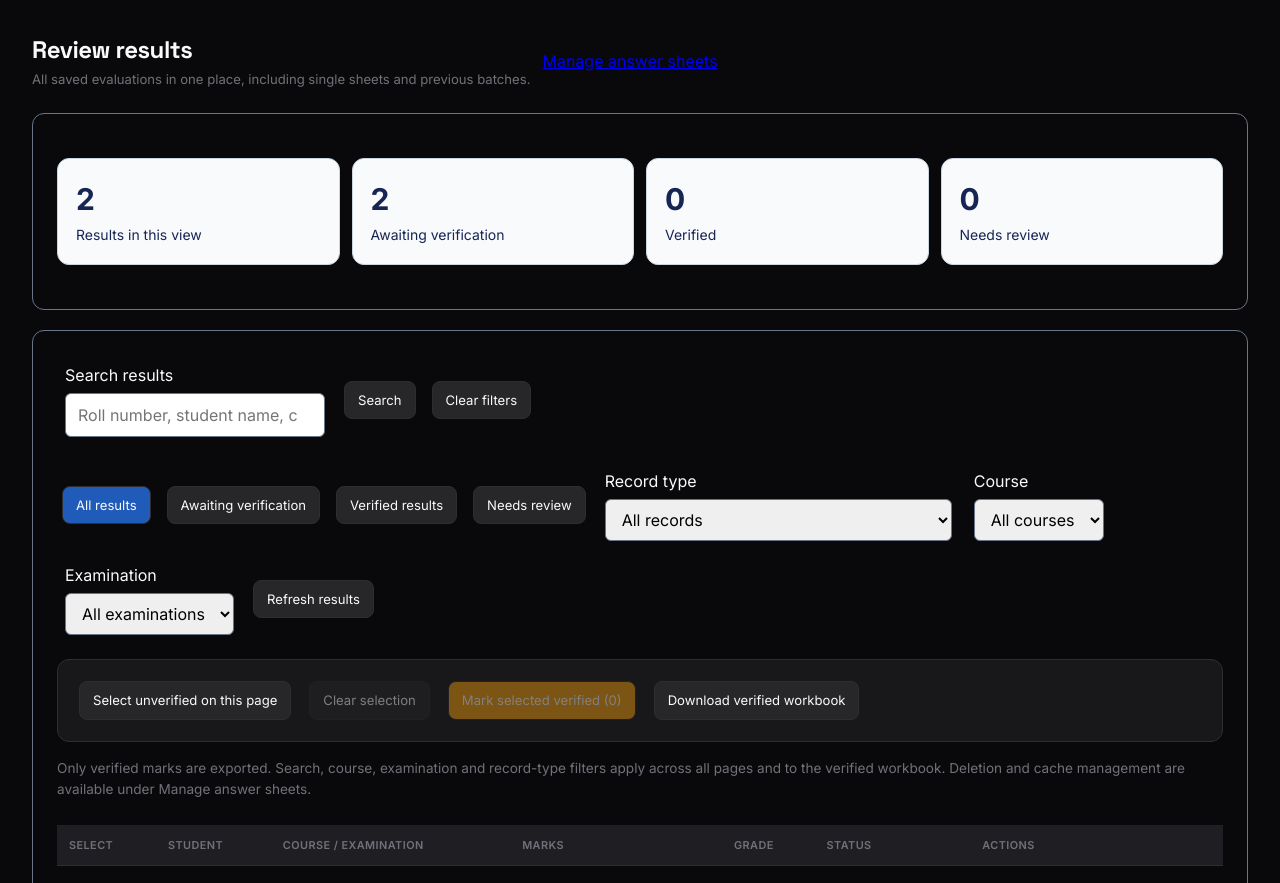
Test: mixed verification uses source-specific revision and attempt identities
Click the button "Select unverified on this page" at point(185, 700), box top-left (79, 681), bottom-right (291, 720)
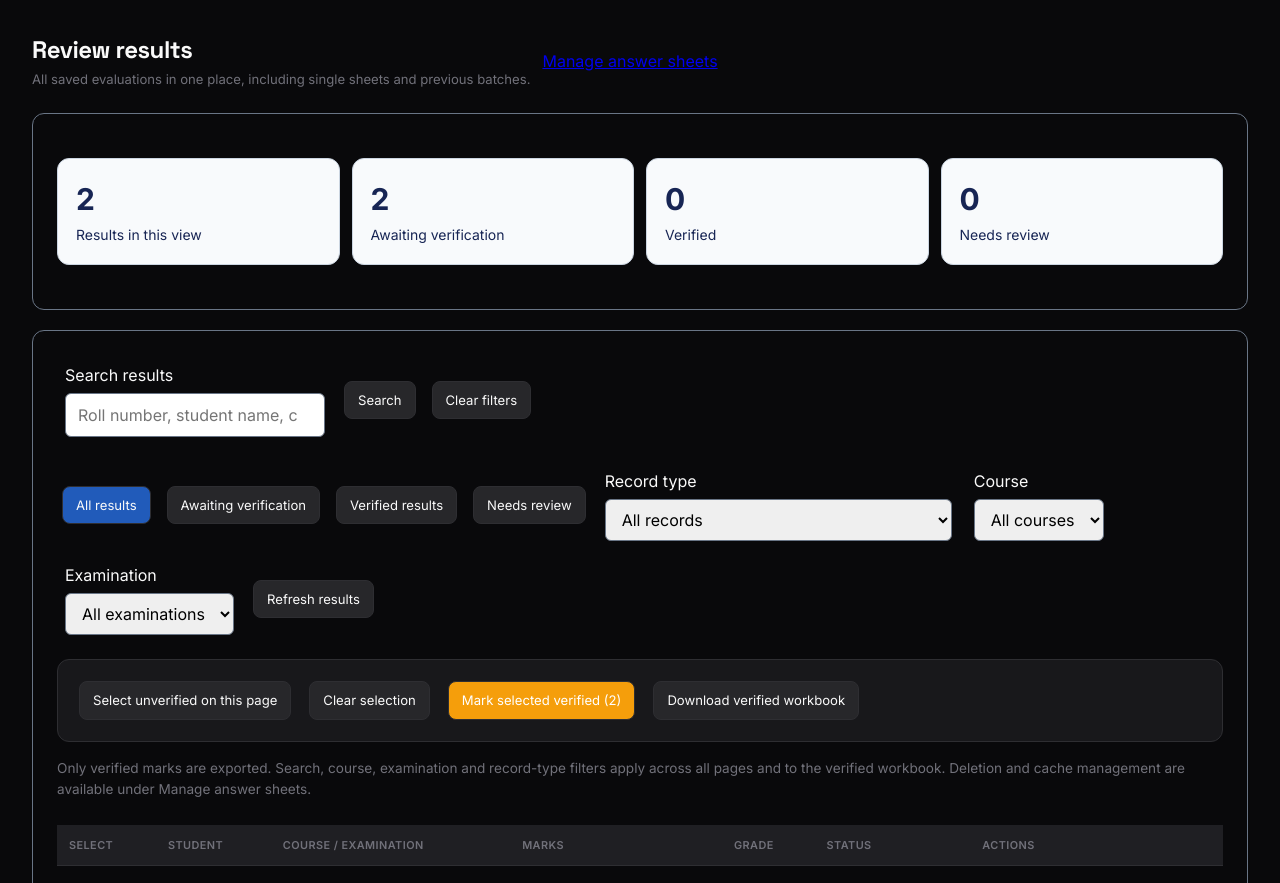
Click the button "Mark selected verified (2)" at point(542, 700), box top-left (448, 681), bottom-right (635, 720)
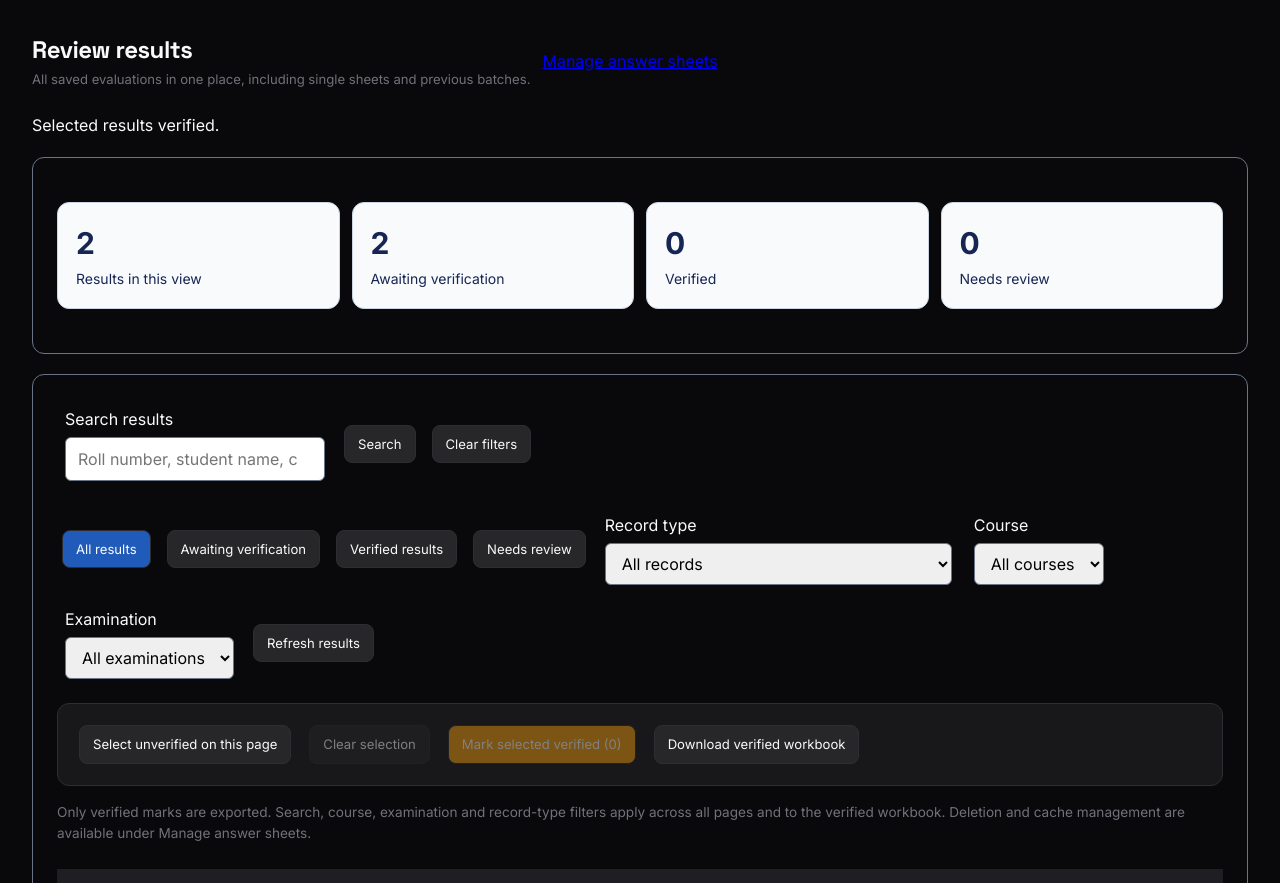
expect the text "Selected results verified." is shown: met, box top-left (32, 115), bottom-right (219, 135)
